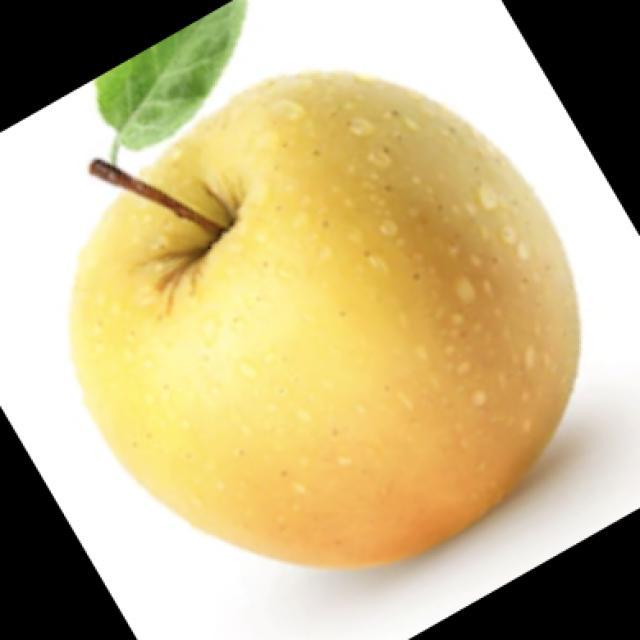Fresh Apple: (77, 84, 595, 568)
